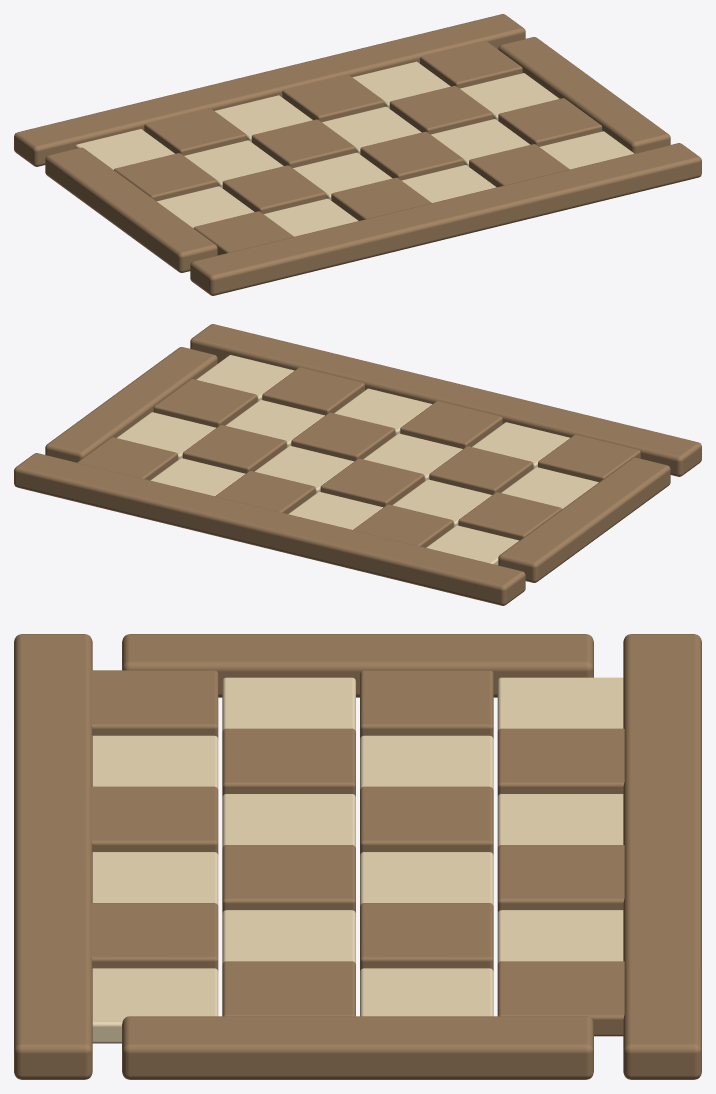
The model's file is marquetry-and-veneer-inlay-workshop-original-geometric-5b1aaad2__39107.glb.
3 renders of one model, top to bottom at view 1: azimuth 30°, elevation 25°; view 2: azimuth 150°, elevation 25°; view 3: azimuth 270°, elevation 25°, orthographic. The views are drawn at different scales.
Visible parts, largest first — view 1: original-geometric-parquetry-lay-on; view 2: original-geometric-parquetry-lay-on; view 3: original-geometric-parquetry-lay-on.
Boxes of the visible parts, bbox=[...] form: original-geometric-parquetry-lay-on: bbox=[14, 14, 701, 295]; original-geometric-parquetry-lay-on: bbox=[14, 324, 701, 605]; original-geometric-parquetry-lay-on: bbox=[14, 634, 701, 1079].
Bounding box in the file's own units: 0.5 × 0.02 × 0.35.
